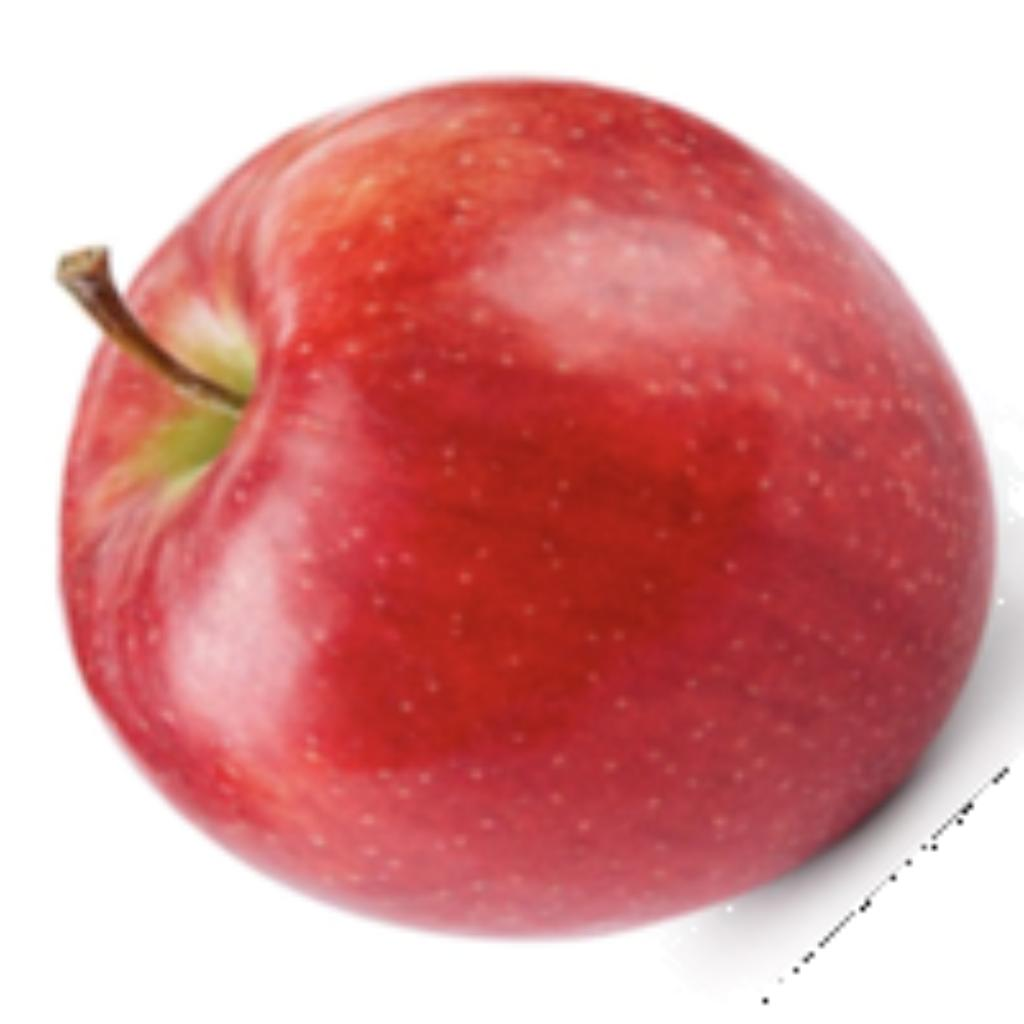apple: (46, 67, 1019, 965)
